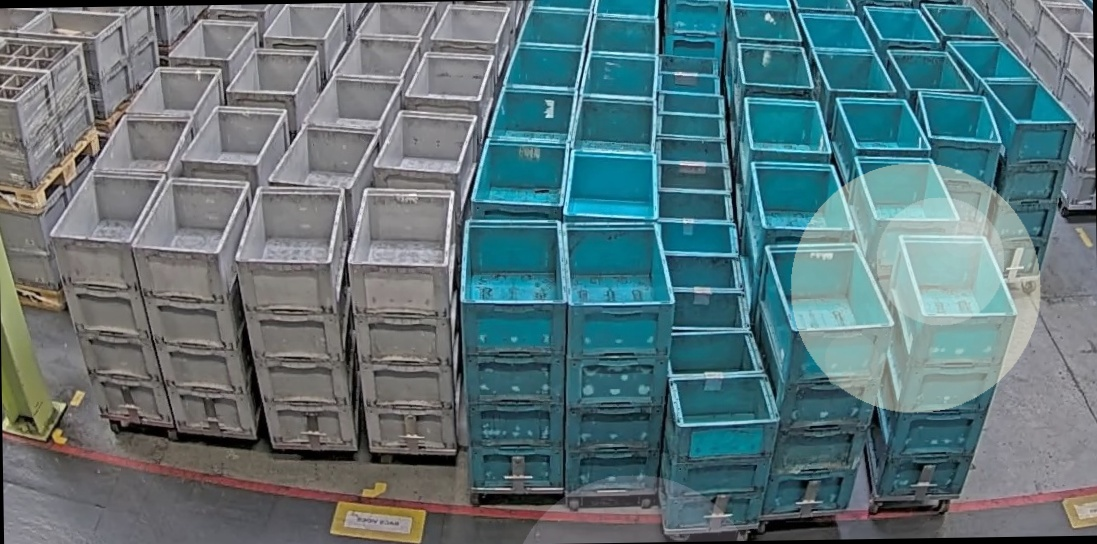4G: (128, 176, 260, 443), (232, 183, 359, 454), (48, 170, 175, 434), (345, 184, 459, 457)
B4: (868, 233, 1023, 503), (755, 239, 899, 523), (557, 220, 679, 498), (457, 218, 567, 497), (913, 88, 1005, 243)
B8: (659, 327, 785, 532)
